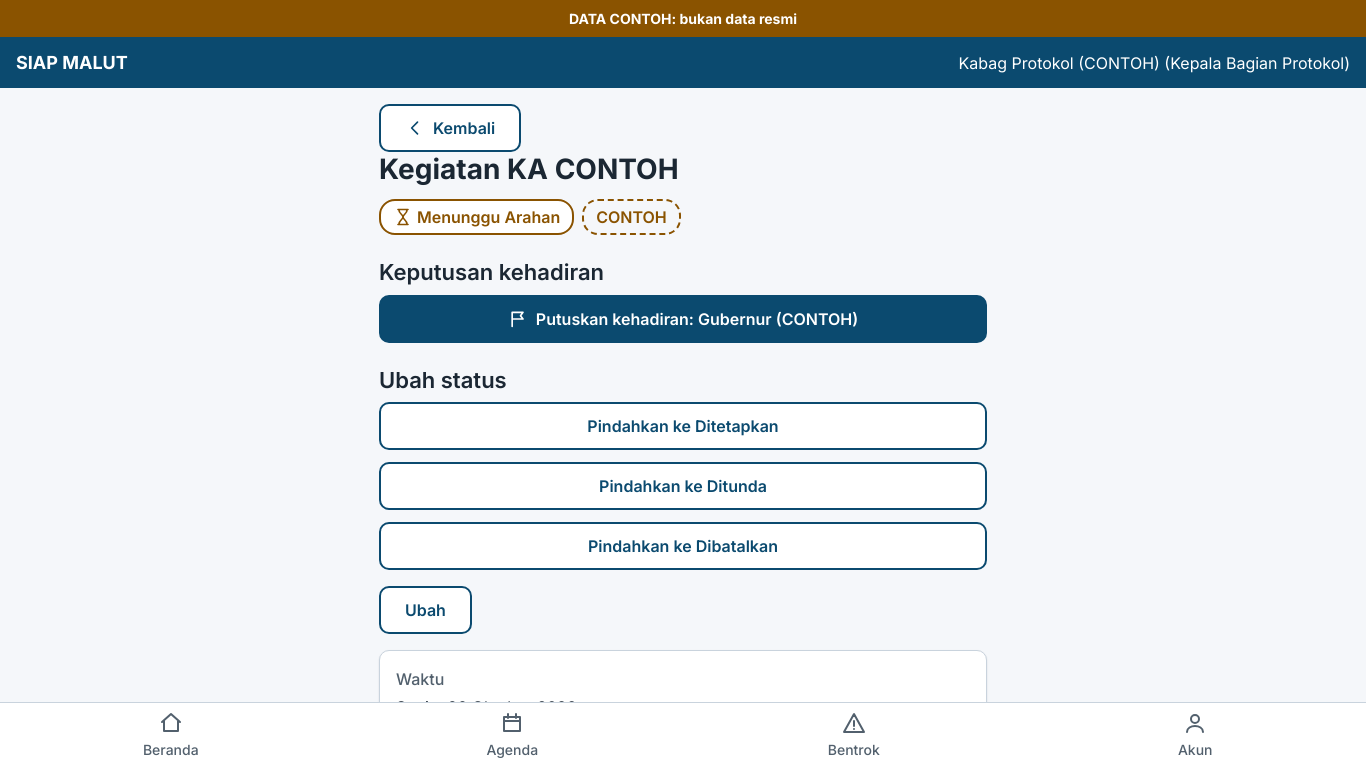
Test: KB-047 dan KB-005: keputusan kehadiran dari ponsel › KB-047: wakilkan mengirim satu permintaan atomik dengan pengganti dan memuat ulang
The width and height of the screenshot is (1366, 768).
Click the button "Putuskan kehadiran: Gubernur (CONTOH)" at (683, 318), box [379,294,987,342]
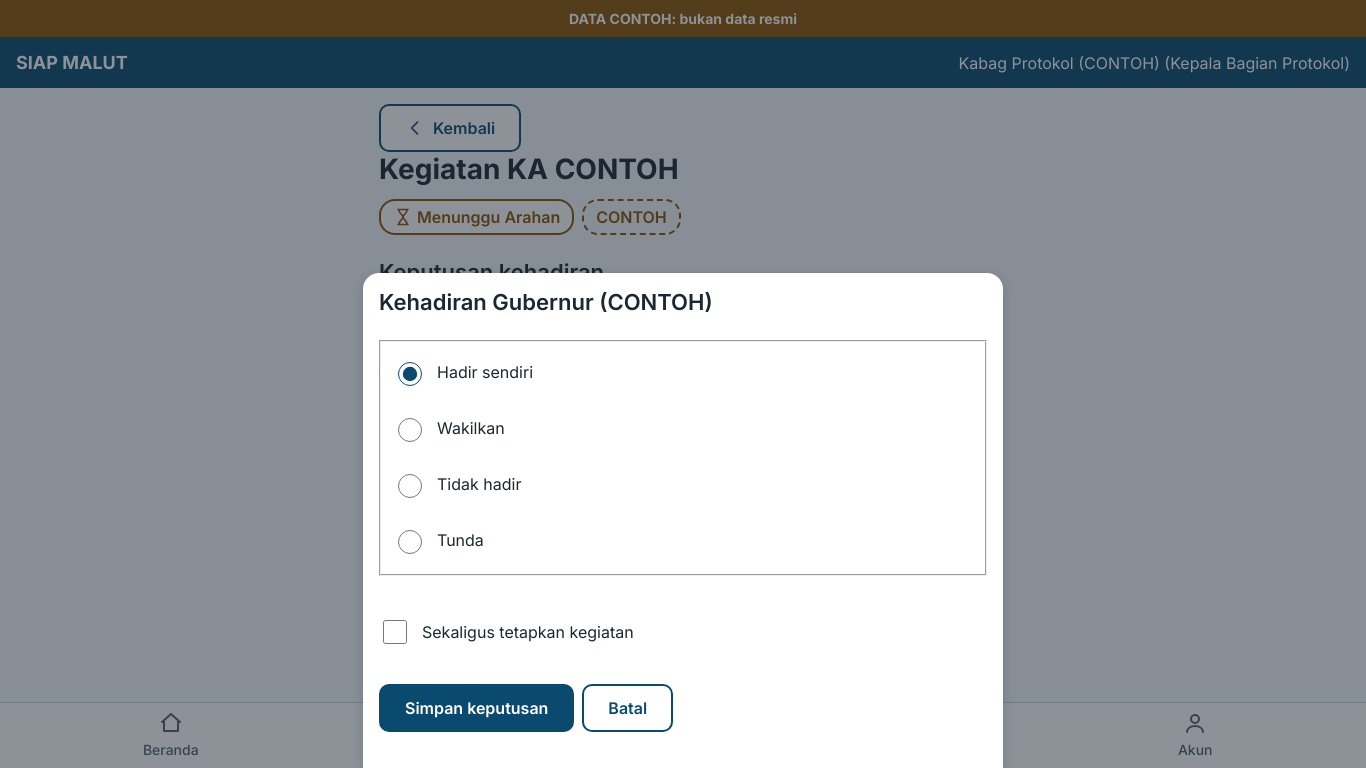
Click the radio button labelled "Wakilkan" at (410, 430), box [398,418,422,442]
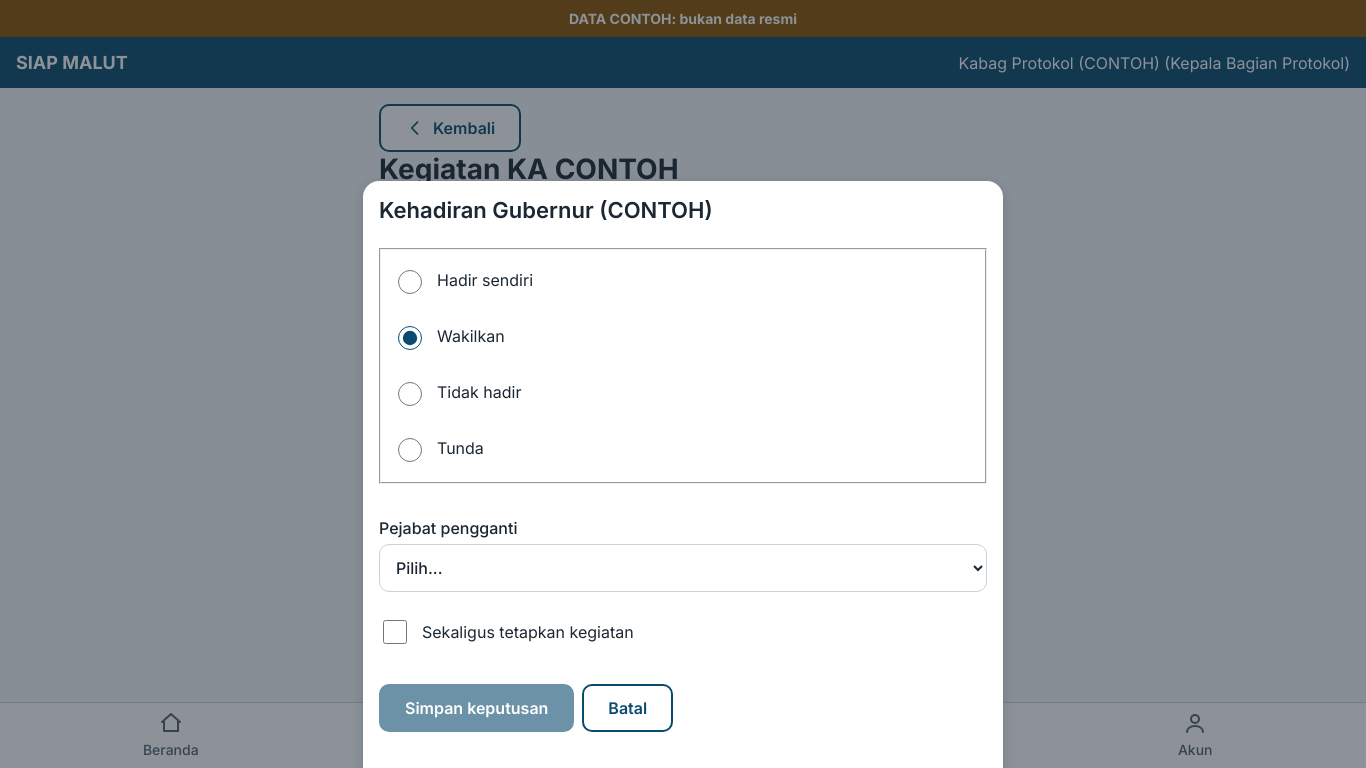
Result: the button "Simpan keputusan" is disabled at [379,684,574,732]
Select "Kepala Dinas Pangan (CONTOH)" in the dropdown labelled "Pejabat pengganti" at (683, 568), box [379,544,987,592]
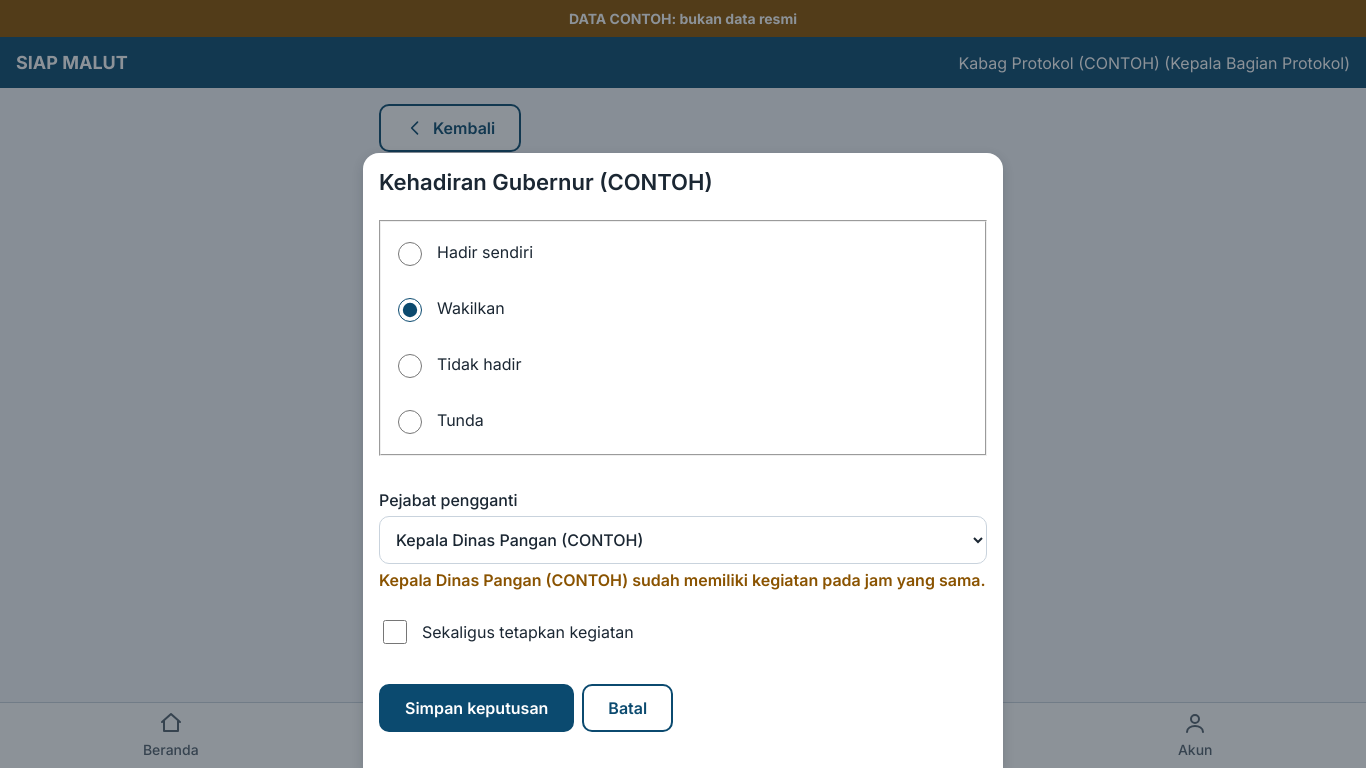
Result: the button "Simpan keputusan" is enabled
Click the button "Simpan keputusan" at (477, 708), box [379,684,574,732]
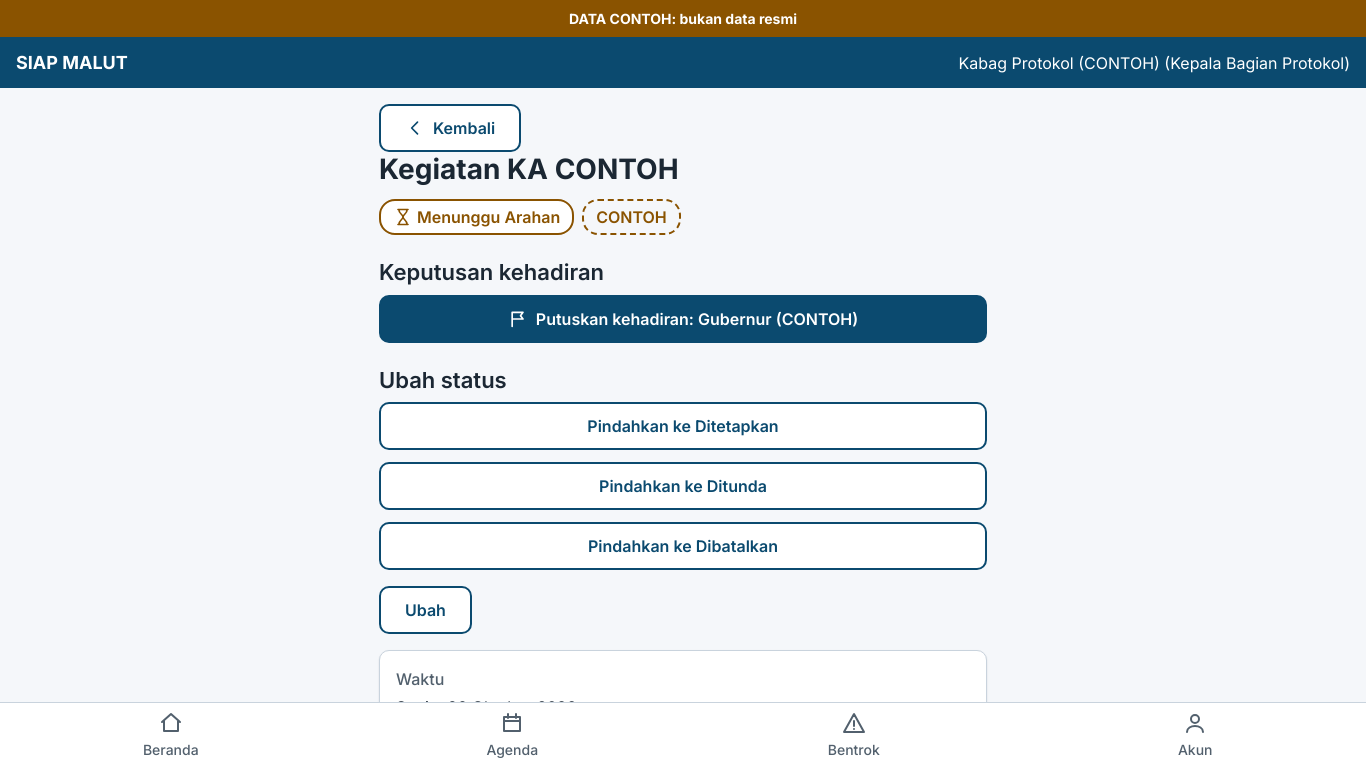
Result: the dialog is gone
